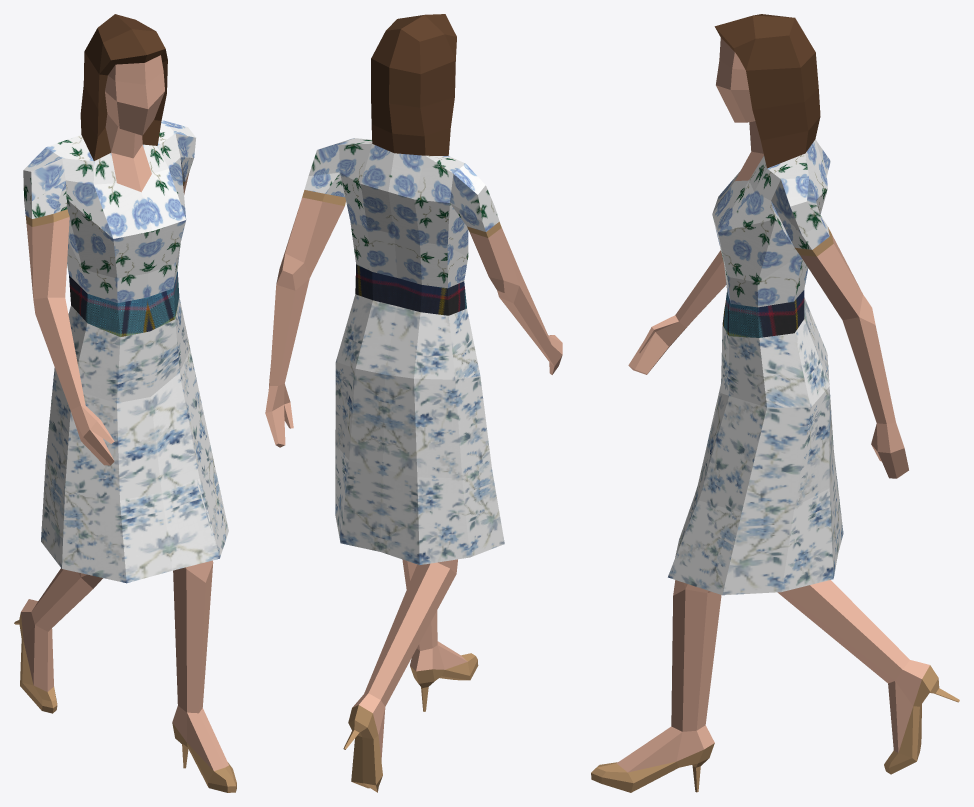
Rendered from SpringWomanC.003.glb.
3 views of the same model, side by side, from view 1: azimuth 30°, elevation 25°; view 2: azimuth 150°, elevation 25°; view 3: azimuth 270°, elevation 25° (orthographic). The views are drawn at different scales.
Visible parts, largest first — view 1: SpringWomanC.003; view 2: SpringWomanC.003; view 3: SpringWomanC.003.
Boxes of the visible parts, left/top/right/bottom form: SpringWomanC.003: left=14, top=14, right=236, bottom=792; SpringWomanC.003: left=265, top=14, right=562, bottom=792; SpringWomanC.003: left=591, top=14, right=959, bottom=792.
Bounding box in the file's own units: 0.457 × 1.66 × 0.7248.
1 material, 1 textured.
